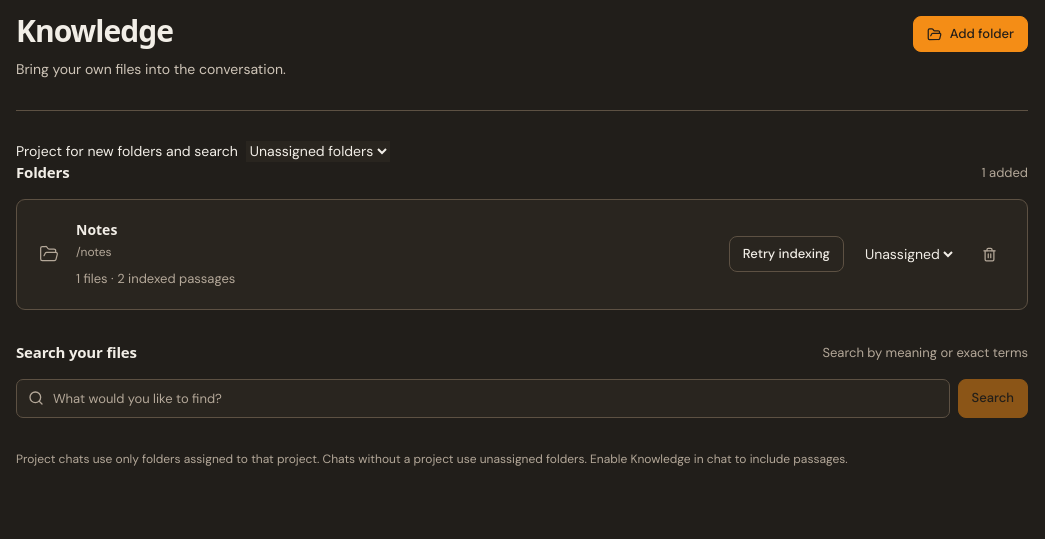
Test case: supporting page recovery › shows knowledge search results only after submitting a query
The image size is (1045, 539).
Type "launch plan" into the field named "Search your files".
click(495, 398); type("launch plan")  # box [53, 380, 938, 417]
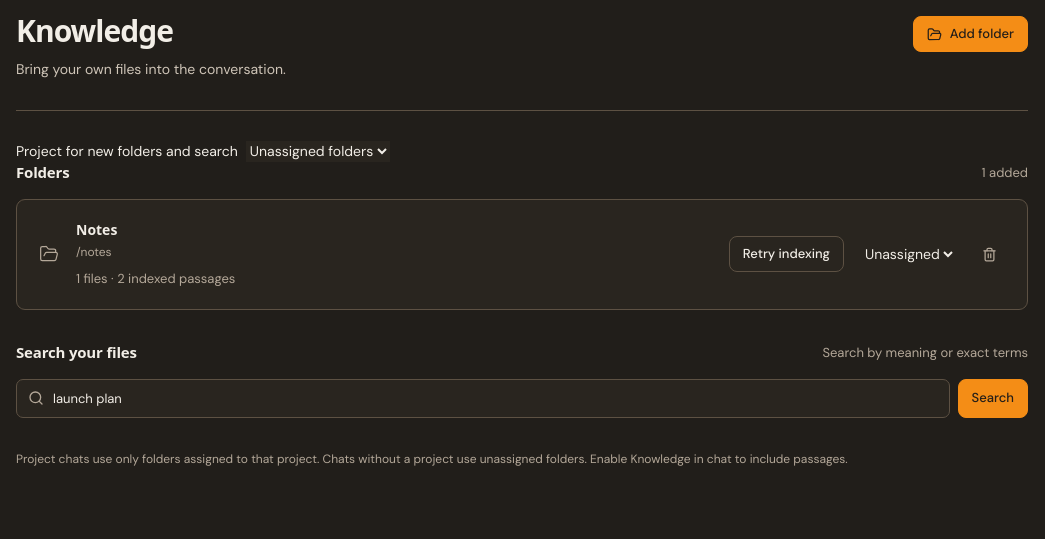
Check: the text "No matching passages" is not shown
Click the button "Search".
click(993, 398)  # box [958, 379, 1028, 418]
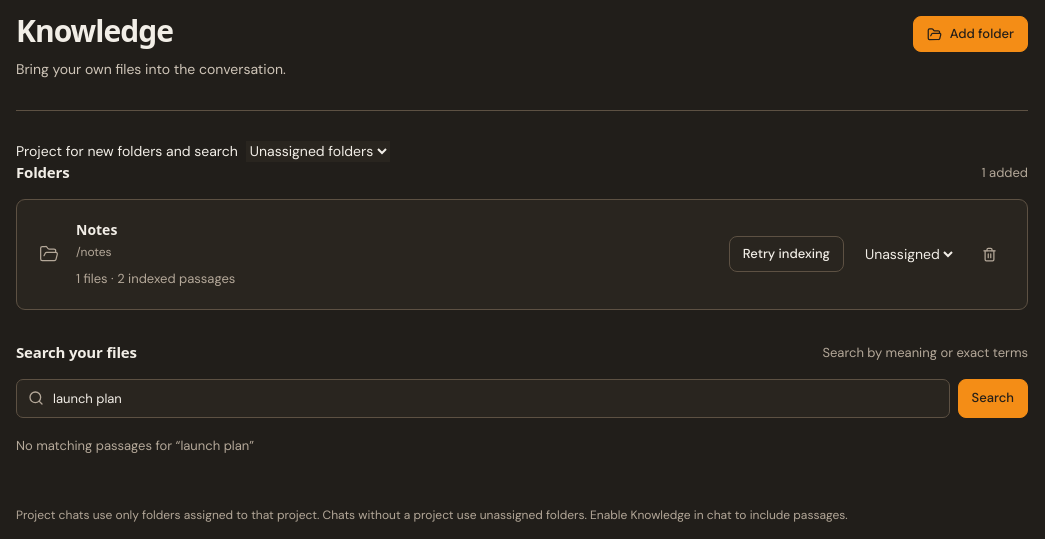
Check: the text "No matching passages for “launch plan”" is shown, box [16, 437, 254, 454]
